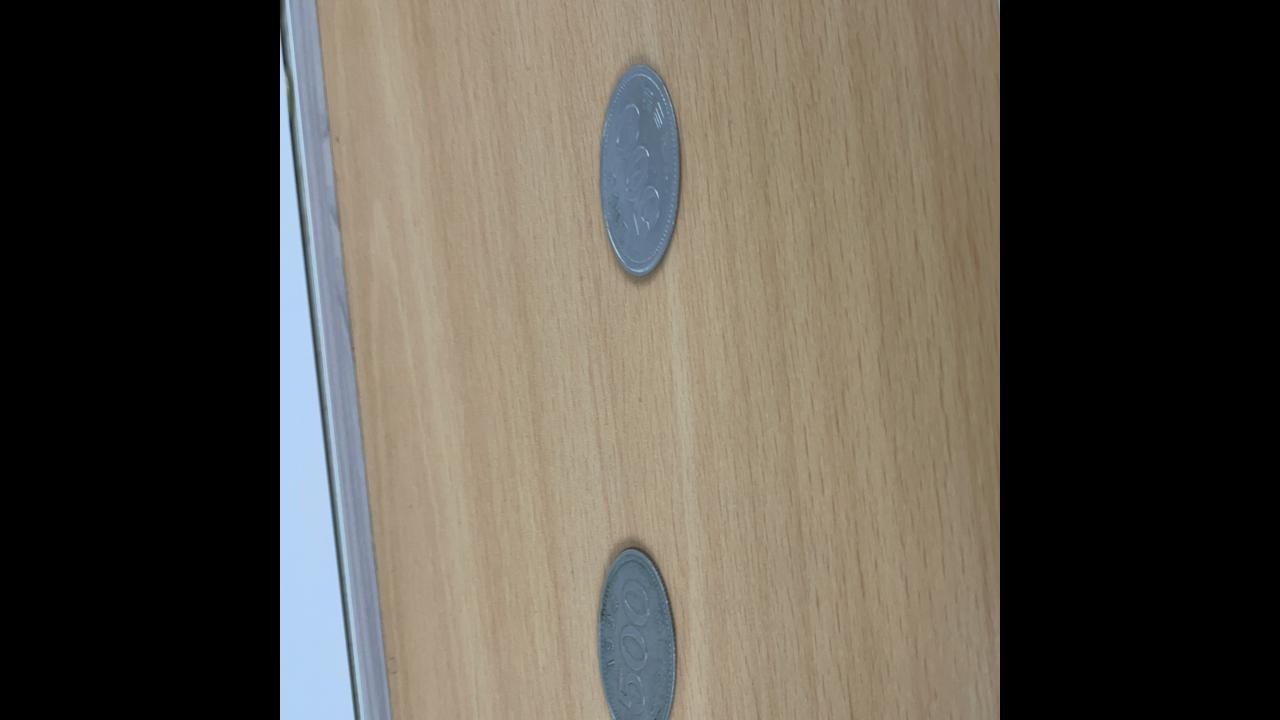coin: (597, 57, 683, 280), (597, 546, 677, 720)
